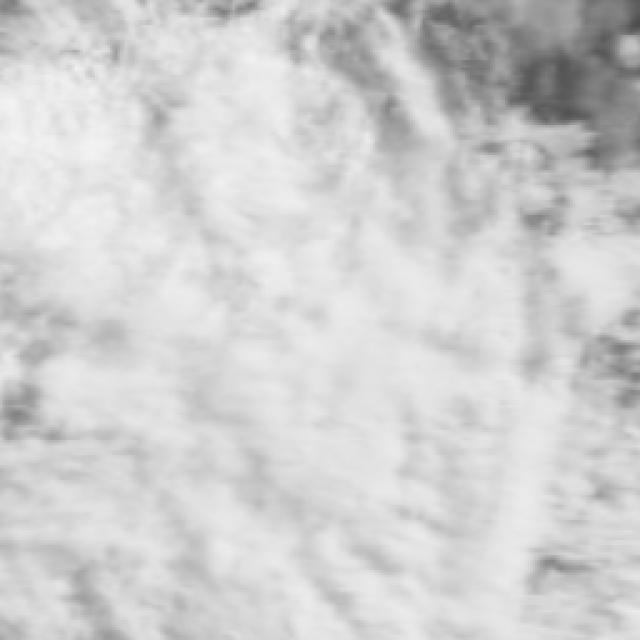CB: (169, 305, 438, 480), (3, 74, 206, 279), (253, 492, 515, 640), (224, 113, 434, 294), (8, 472, 233, 640), (447, 246, 594, 489), (0, 305, 164, 474)
